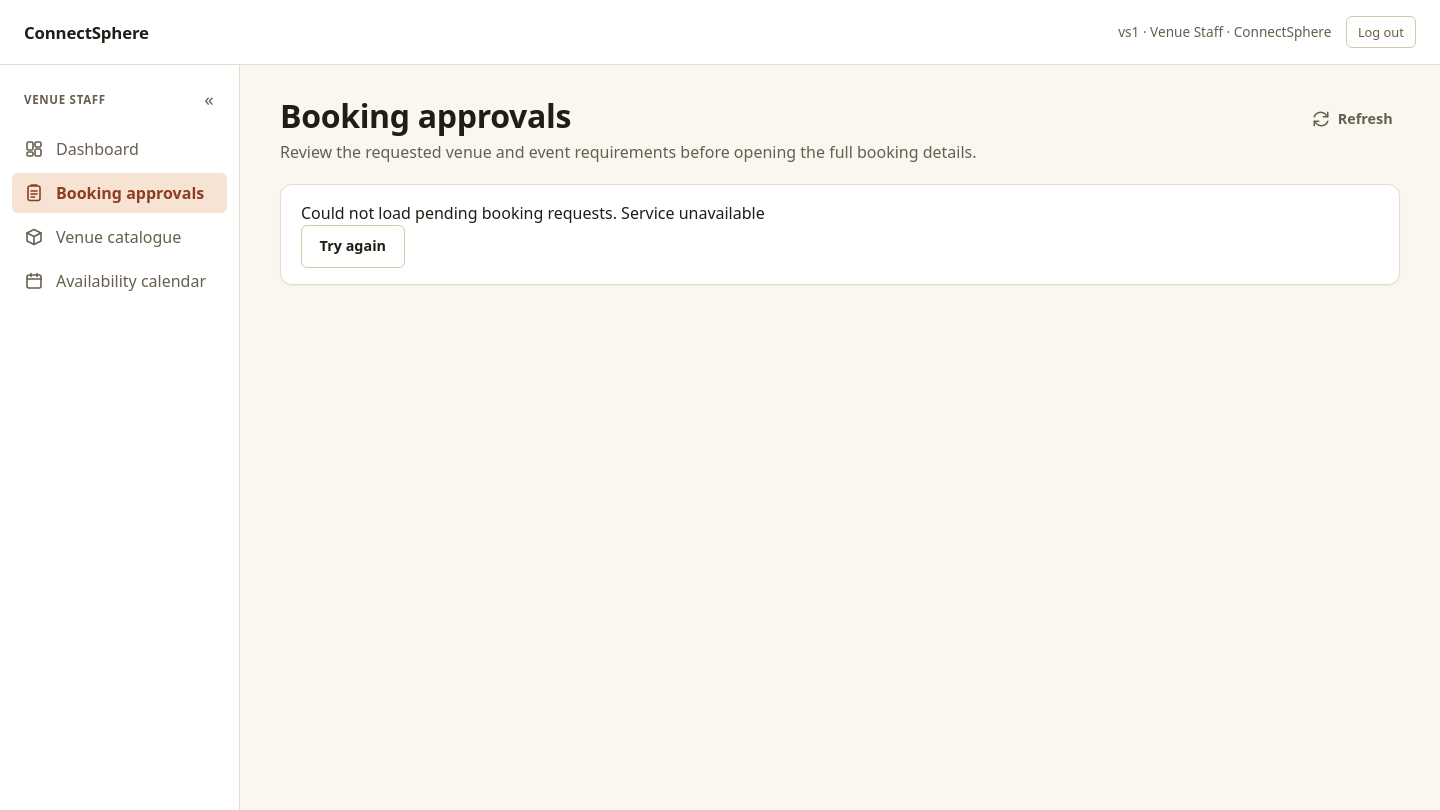
Test: shows retrieval errors separately from empty state and retries successfully
Expected: the message shows "Could not load pending booking requests", [301,202,621,224]
Click the button "Try again": (353, 246) [301,225,405,268]
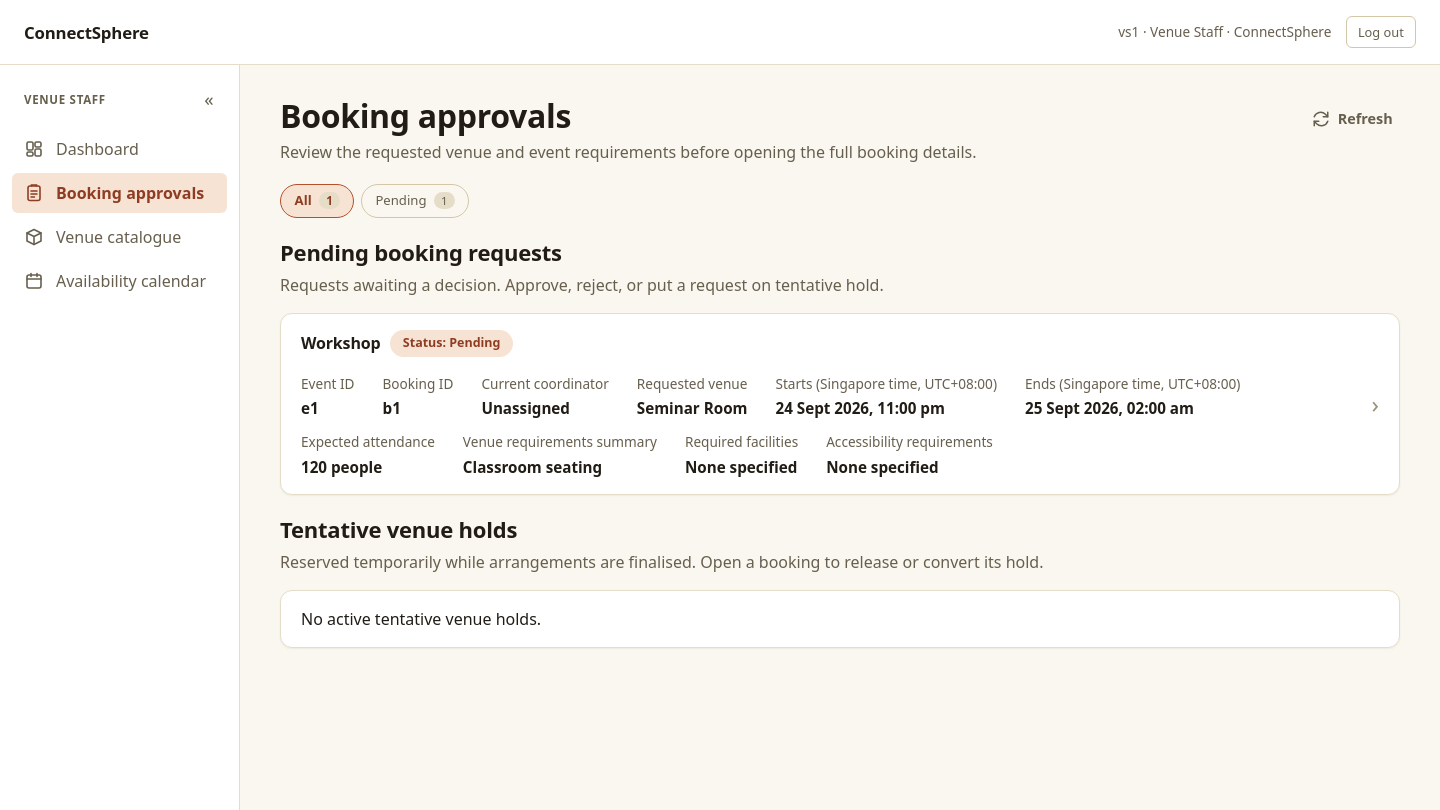
Expected: the heading "Workshop" is shown, [301,333,380,354]
Expected: the message "Could not load pending booking requests. Service unavailable" is gone
